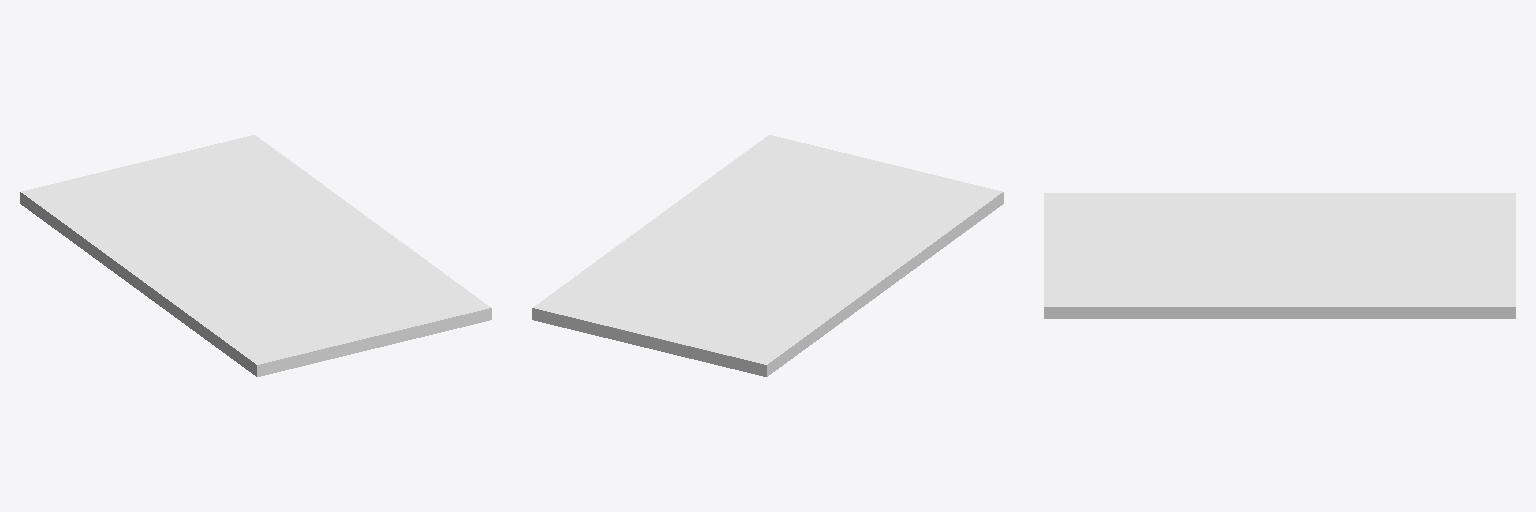
robot.urdf — cutting-board:
<?xml version="1.0"?>
<robot name="cutting-board"
       xmlns:xi="http://www.w3.org/2001/XInclude">
  <gazebo>
    <static>false</static>
  </gazebo>
  <link name="nil_link">
    <visual>
      <origin xyz="0 0 0" rpy="0 -0 0"/>
      <geometry>
        <mesh filename="model://cutting-board/meshes/nil_link_mesh.dae" scale="1 1 1" />
      </geometry>
    </visual>
    <collision>
      <origin xyz="0 0 0" rpy="0 -0 0"/>
      <geometry>
        <mesh filename="model://cutting-board/meshes/nil_link_mesh.dae" scale="1 1 1" />
      </geometry>
    </collision>
    <inertial>
      <mass value="0.001" />
      <origin xyz="0 0 0" rpy="0 -0 0"/>
      <inertia ixx="1e-03" ixy="0" ixz="0" iyy="1e-03" iyz="0" izz="1e-03"/>
    </inertial>
  </link>
  <gazebo reference="nil_link">
    <mu1>0.9</mu1>
    <mu2>0.9</mu2>
  </gazebo>
</robot>

--- What the picture shows (computed from the rendered views, not written in the file) ---
The picture shows the robot from 3 angles, left to right: view 1: azimuth 30°, elevation 25°; view 2: azimuth 150°, elevation 25°; view 3: azimuth 270°, elevation 25°; orthographic projection.
Model cutting-board with 1 links and 0 joints (none), rooted at nil_link, posed all joints at 0.
Links seen in each view (by area): view 1: nil_link; view 2: nil_link; view 3: nil_link.
Boxes of the visible links, bbox=[...] form: nil_link: bbox=[20, 135, 491, 376]; nil_link: bbox=[532, 135, 1003, 376]; nil_link: bbox=[1044, 193, 1515, 318].
Size in the robot's own frame: 0.2 by 0.35 by 0.01 metres.
1 mesh visuals loaded from 1 distinct referenced files (1 Collada DAE).
